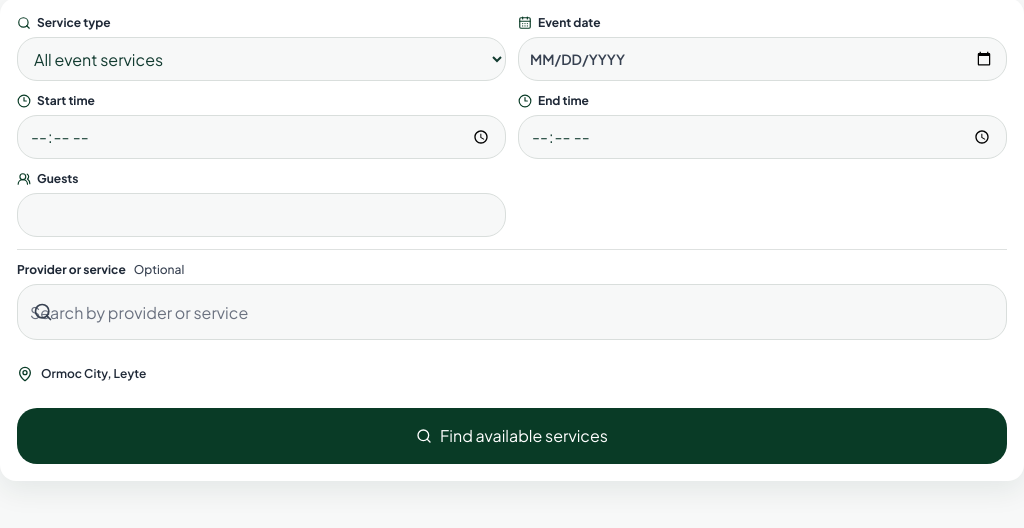
Test: customer home event planning › blocks a past date with inline guidance
The width and height of the screenshot is (1024, 528).
Select "Catering" in the dropdown labelled "Service type" at (262, 59), box x1=17 y1=37 x2=506 y2=81
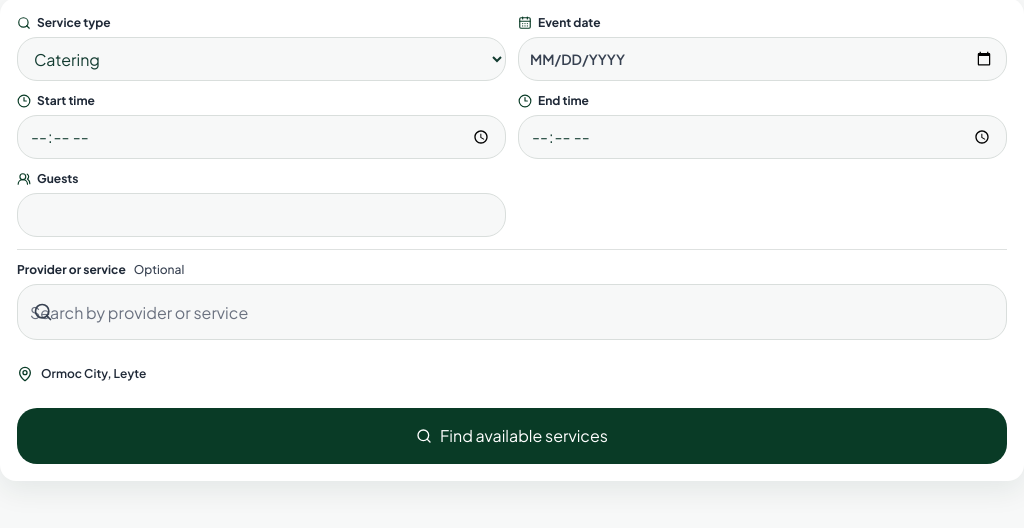
Type "2026-08-27" into the date field labelled "Event date".
click(762, 59); type("2026-08-27")  # box x1=518 y1=37 x2=1007 y2=81
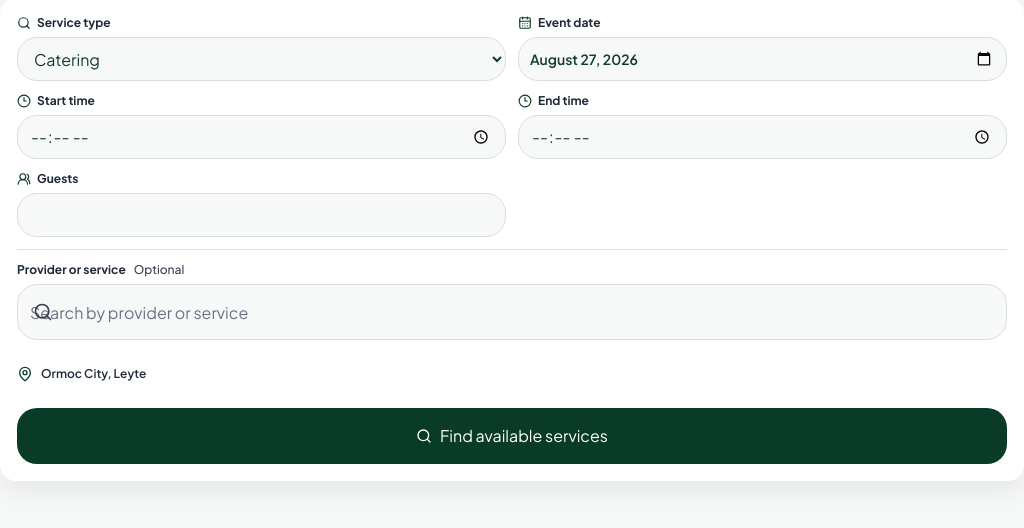
Type "18:00" into the time field labelled "Start time".
click(262, 137); type("18:00")  # box x1=17 y1=115 x2=506 y2=159
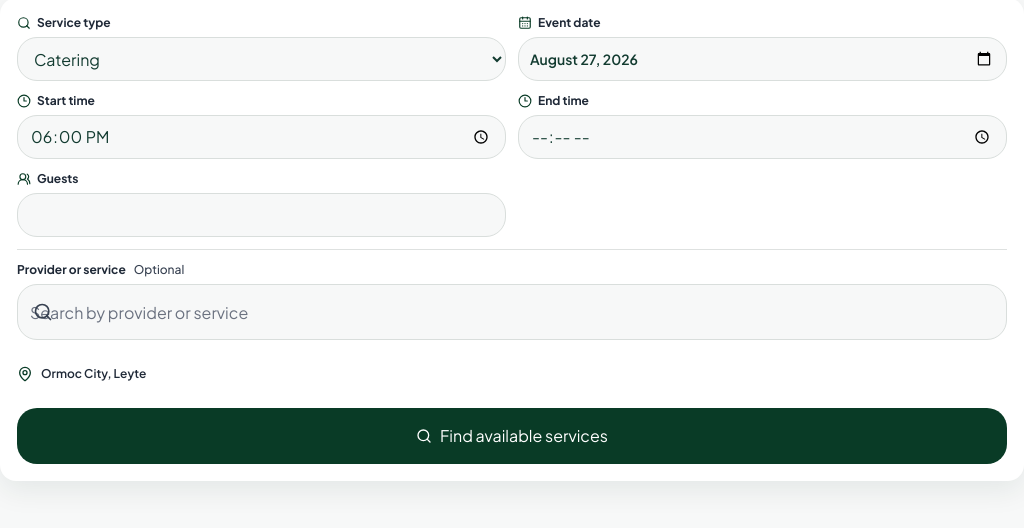
Type "22:00" into the time field labelled "End time".
click(762, 137); type("22:00")  # box x1=518 y1=115 x2=1007 y2=159
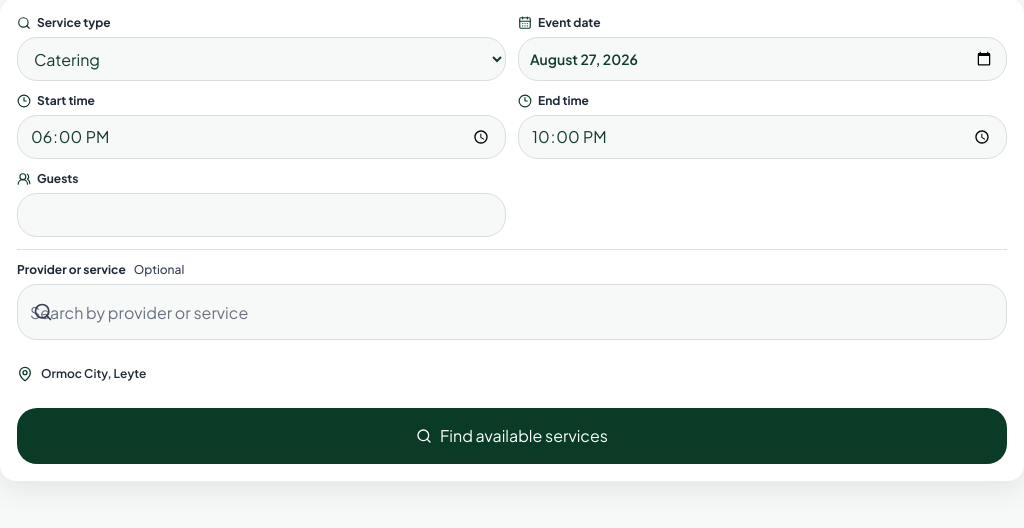
Type "100" into the number field labelled "Guests".
click(262, 215); type("100")  # box x1=17 y1=193 x2=506 y2=237
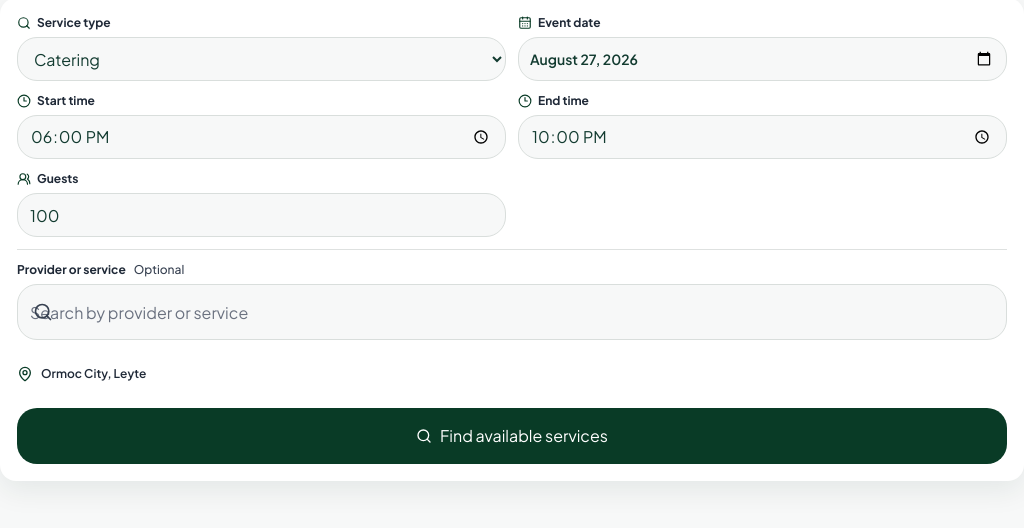
Click the button "Find available services".
click(512, 436)  # box x1=17 y1=408 x2=1007 y2=464
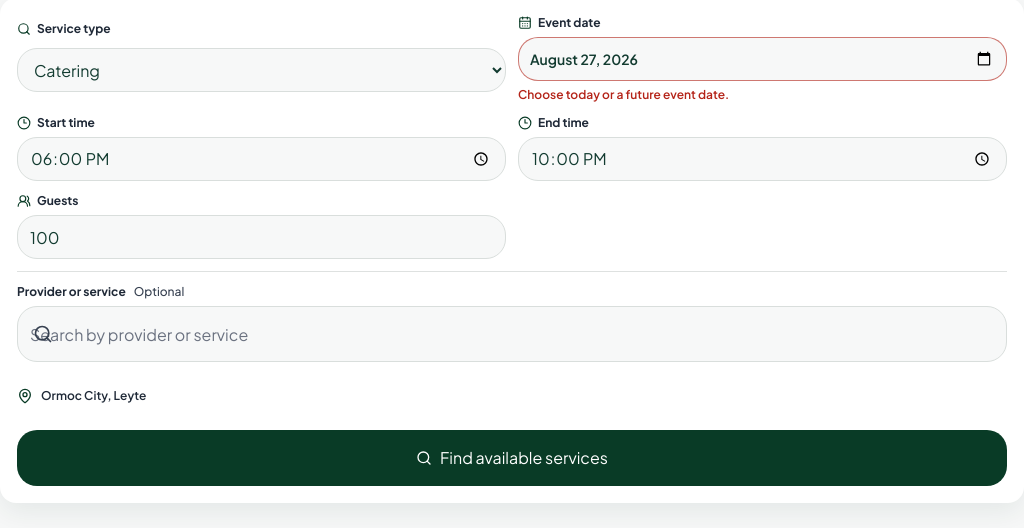
expect the text "Choose today or a future event date." is shown: met, box x1=518 y1=87 x2=729 y2=102
